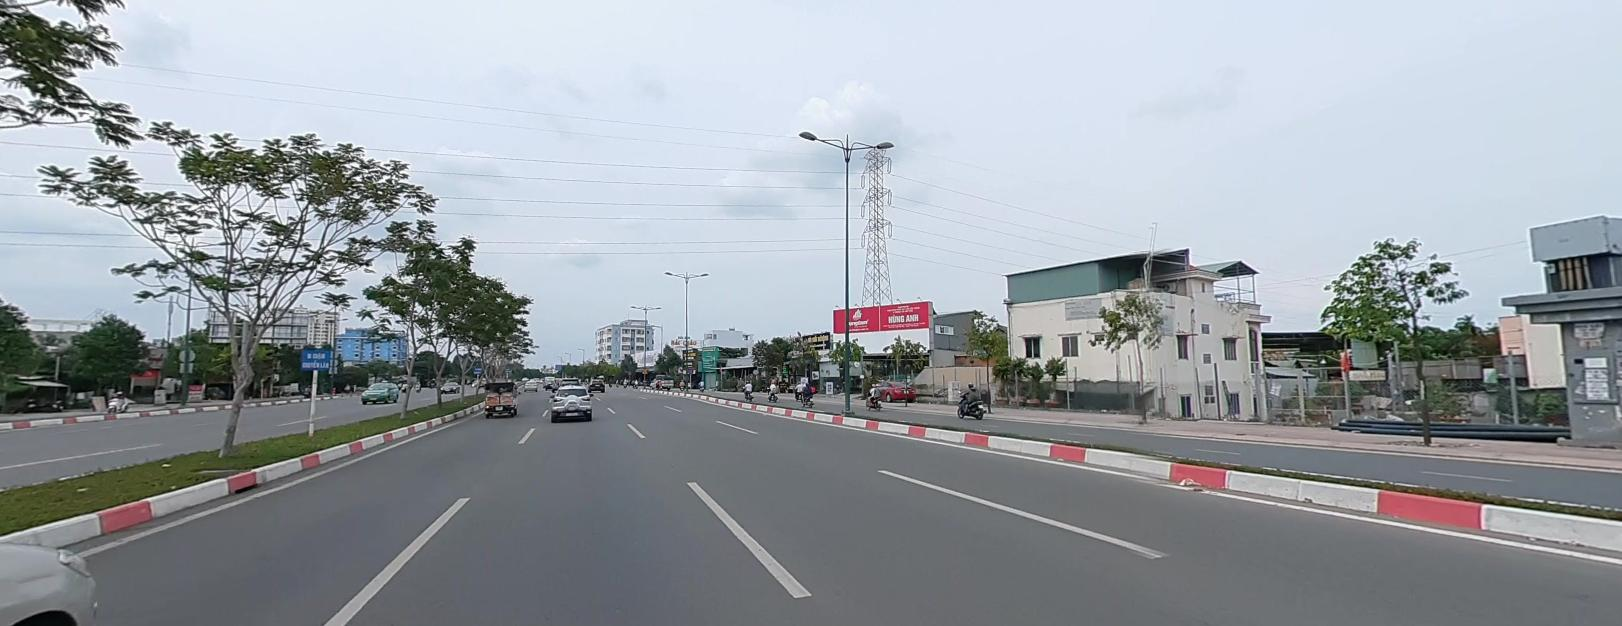Nguy hiem: (641, 367, 647, 372)
